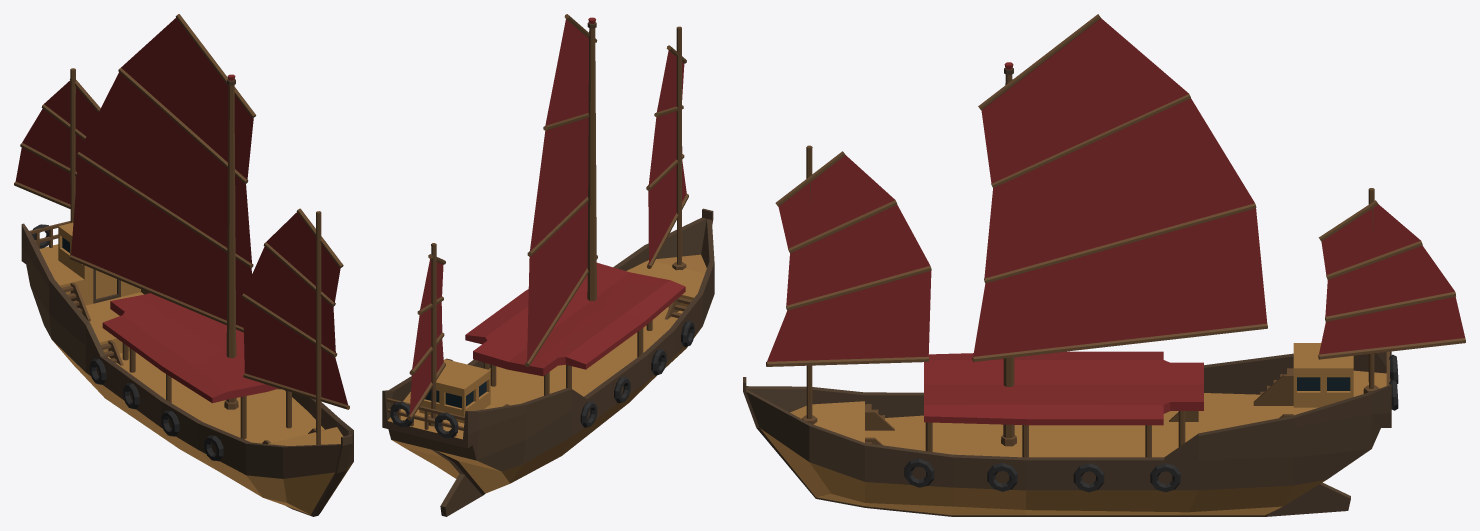
File: boat-china.glb
3 renders of one model, left to right at view 1: azimuth 30°, elevation 25°; view 2: azimuth 150°, elevation 25°; view 3: azimuth 270°, elevation 25°, orthographic. The views are drawn at different scales.
Parts seen in each view (by area): view 1: boat-china; view 2: boat-china; view 3: boat-china.
Boxes of the visible parts, <box> form: boat-china: <box>14,14,353,516</box>; boat-china: <box>382,14,714,516</box>; boat-china: <box>743,14,1465,516</box>.
Size of the model in its own units: 5.37 by 16.38 by 21.73.
1 material, 1 textured.
